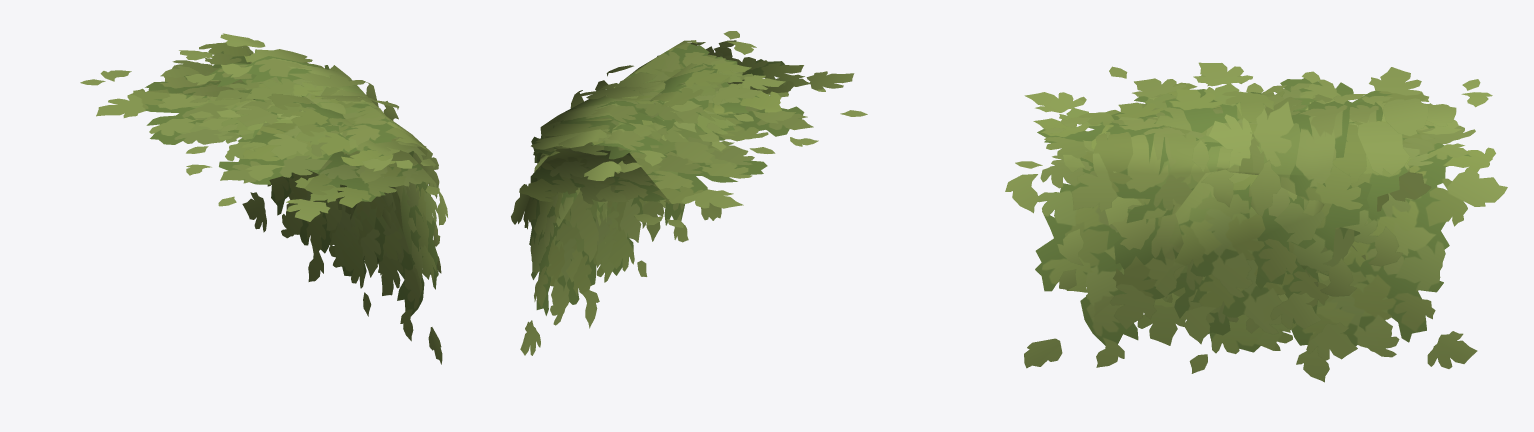
Rendered from SM_Env_Vine_16.fbx.
3 renders of one model, left to right at view 1: azimuth 30°, elevation 25°; view 2: azimuth 150°, elevation 25°; view 3: azimuth 270°, elevation 25°, orthographic. The views are drawn at different scales.
Parts seen in each view (by area): view 1: SM_Env_Vine_16; view 2: SM_Env_Vine_16; view 3: SM_Env_Vine_16.
Part boxes in pixels (x1,y1,x2,y2): SM_Env_Vine_16: (80, 33, 447, 364); SM_Env_Vine_16: (511, 31, 867, 355); SM_Env_Vine_16: (1005, 62, 1507, 382).
Size of the model in its own units: 152 by 150 by 253.
